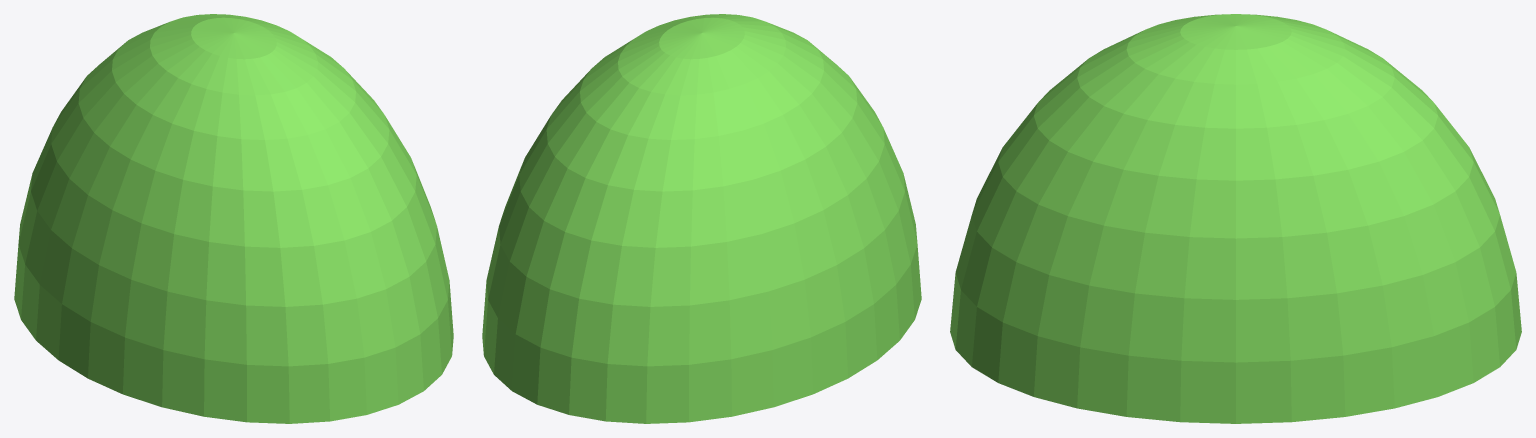
File: BTBush.fbx
3 views of the same model, side by side, from view 1: azimuth 30°, elevation 25°; view 2: azimuth 150°, elevation 25°; view 3: azimuth 270°, elevation 25° (orthographic). The views are drawn at different scales.
Visible parts, largest first — view 1: Bush; view 2: Bush; view 3: Bush.
Boxes of the visible parts, <box> form: Bush: <box>14,14,453,423</box>; Bush: <box>482,14,921,423</box>; Bush: <box>950,14,1521,423</box>.
Size of the model in its own units: 504 by 391 by 662.
